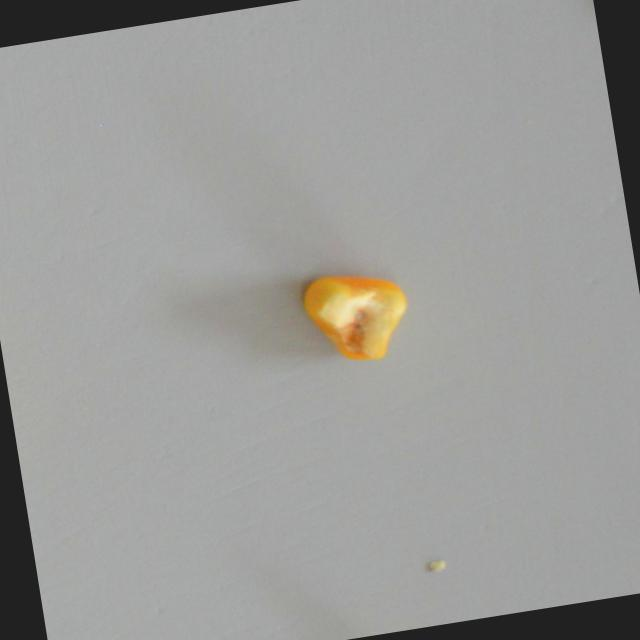dañado: (289, 255, 423, 382)
